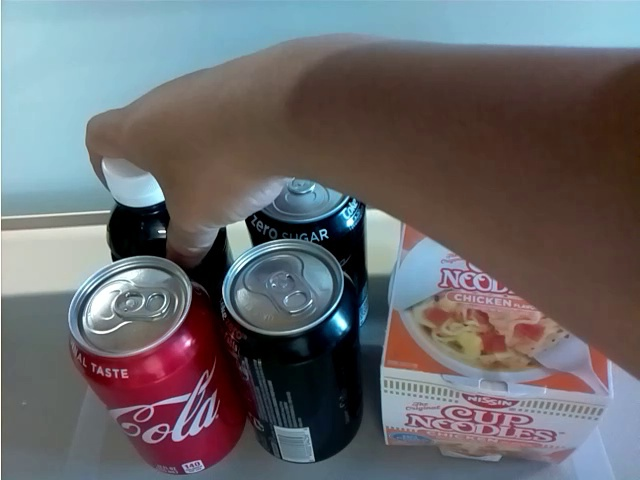cocacola: (67, 255, 247, 480), (218, 240, 368, 464), (245, 178, 369, 325)
hand: (85, 27, 392, 263)
juice: (93, 154, 232, 275)
noodles: (376, 214, 619, 464)
